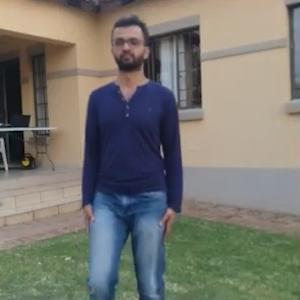follow: (81, 11, 180, 296)
